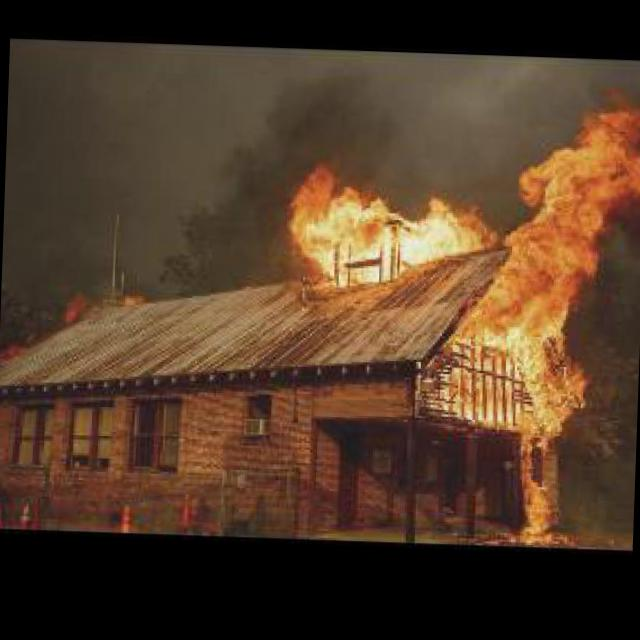fire: (269, 70, 640, 543), (60, 288, 98, 326), (118, 286, 140, 305)
